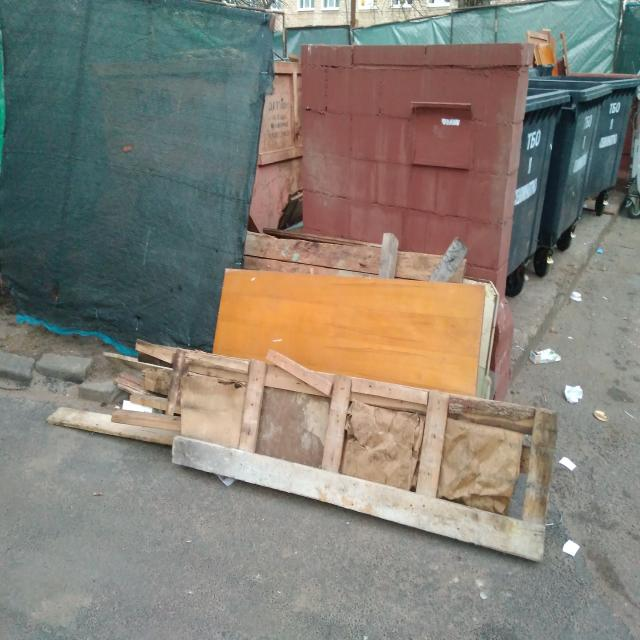entulho: (174, 257, 568, 568), (208, 263, 495, 386), (51, 344, 192, 456)
